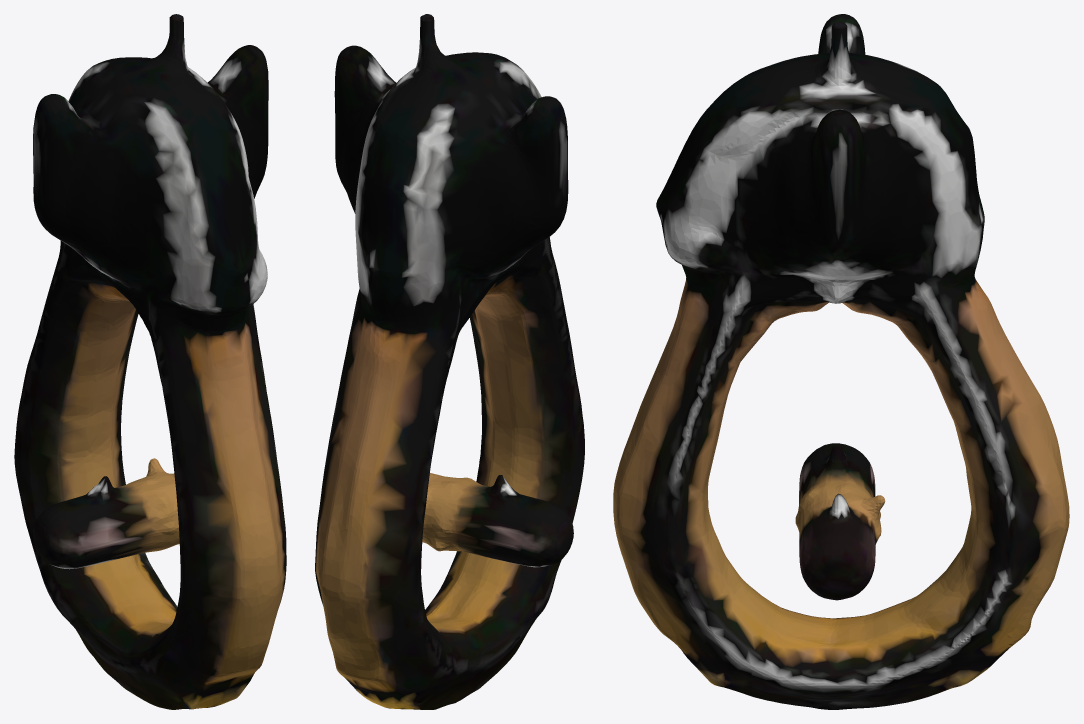
Rendered from mace_1.glb.
The picture shows the model from 3 angles, left to right: view 1: azimuth 30°, elevation 25°; view 2: azimuth 150°, elevation 25°; view 3: azimuth 270°, elevation 25°; orthographic projection. The views are drawn at different scales.
Parts seen in each view (by area): view 1: geometry_0; view 2: geometry_0; view 3: geometry_0.
Boxes of the visible parts, x1,y1,x2,y2 form: geometry_0: (14, 14, 286, 709); geometry_0: (315, 14, 584, 709); geometry_0: (613, 14, 1069, 709).
Size of the model in its own units: 0.3438 by 0.9511 by 0.5722.
